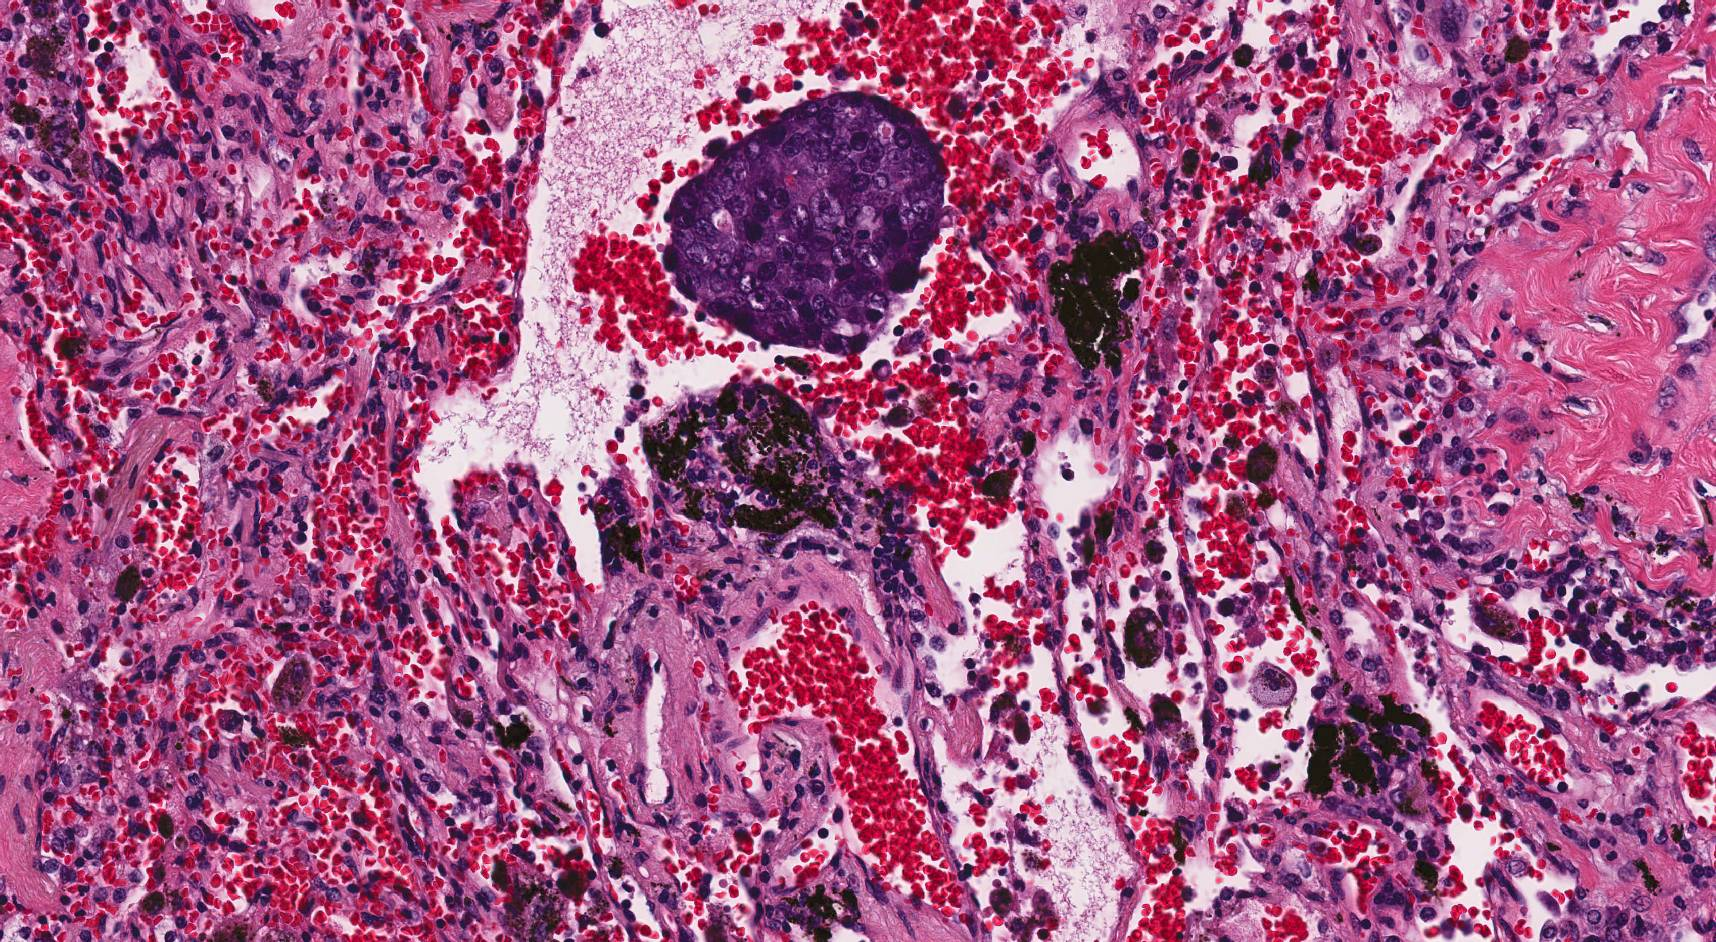stas: (662, 89, 946, 351)
